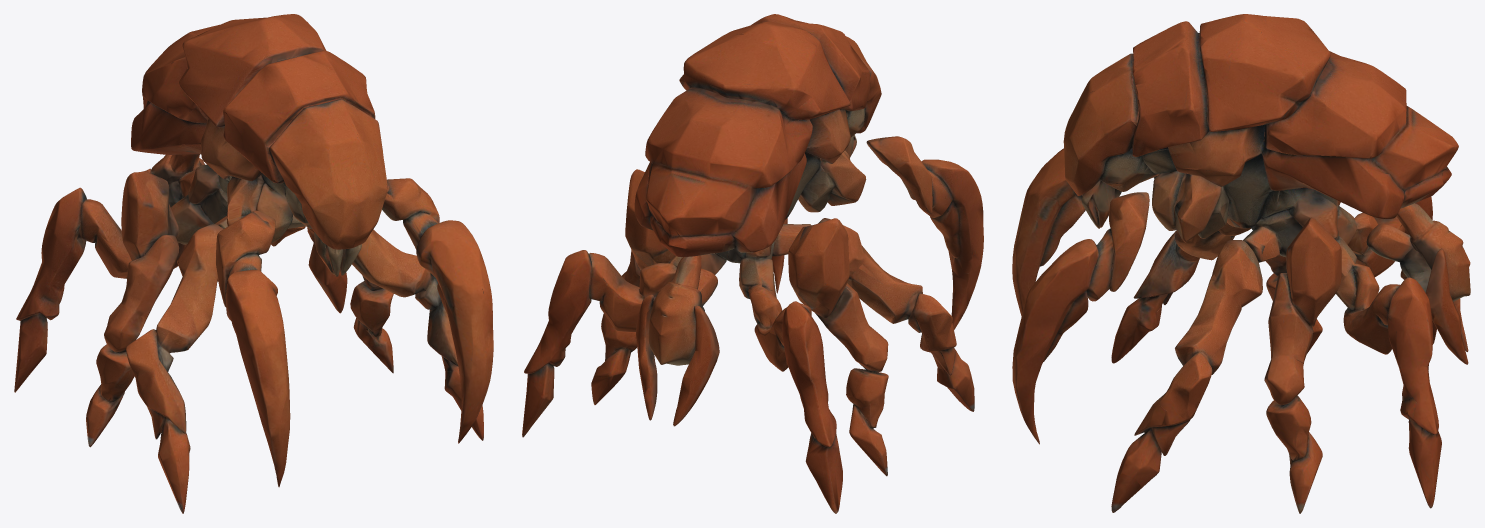
The model's file is paintline_enemy.glb.
The picture shows the model from 3 angles, left to right: view 1: azimuth 30°, elevation 25°; view 2: azimuth 150°, elevation 25°; view 3: azimuth 270°, elevation 25°; orthographic projection. The views are drawn at different scales.
Size of the model in its own units: 1.69 by 2 by 1.97.
1 material, 1 textured.
